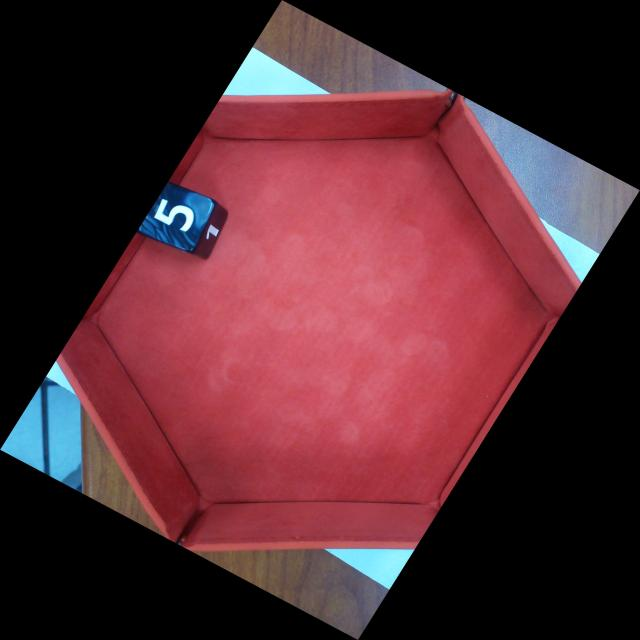dice: (140, 187, 219, 256)
